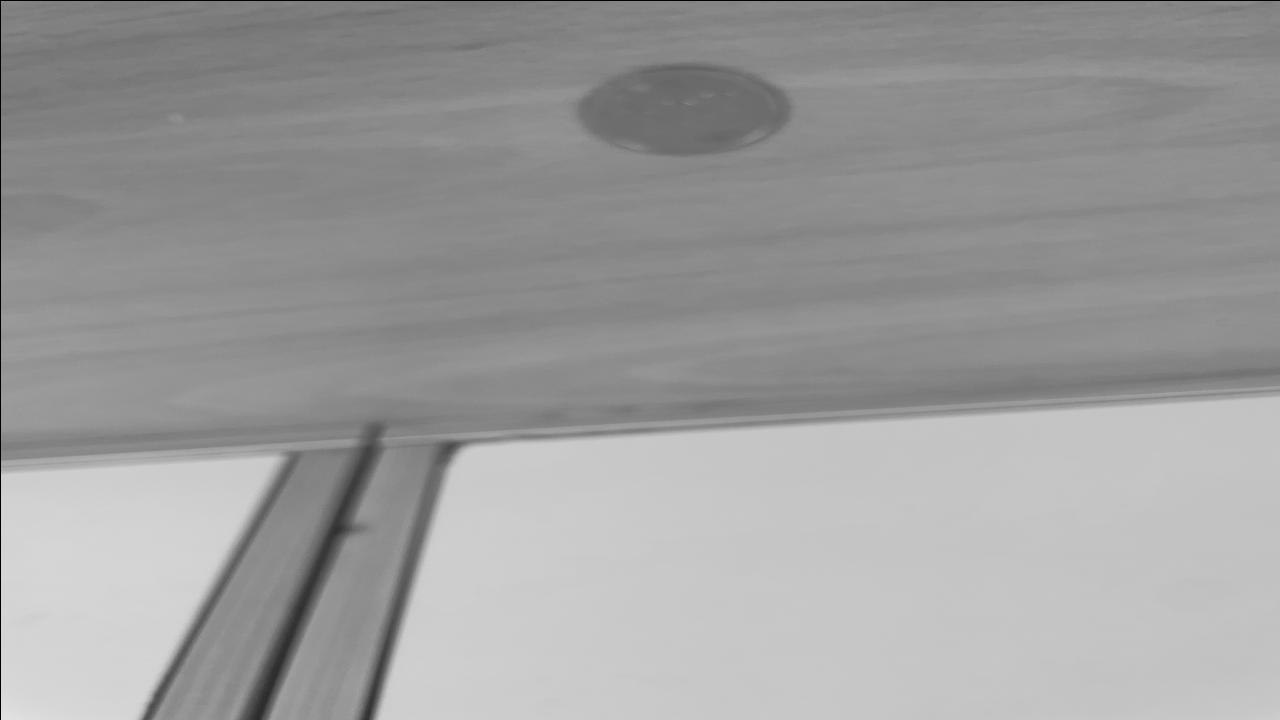coin: (572, 64, 794, 158)
